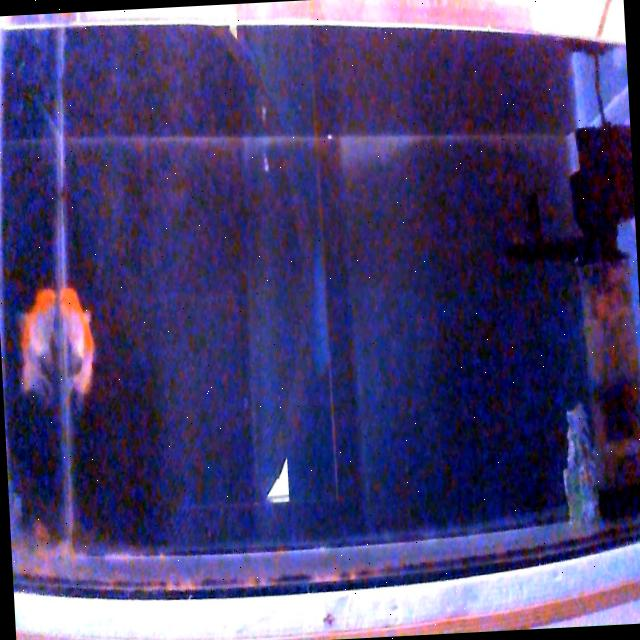fish: (21, 288, 57, 394), (59, 288, 94, 394)
